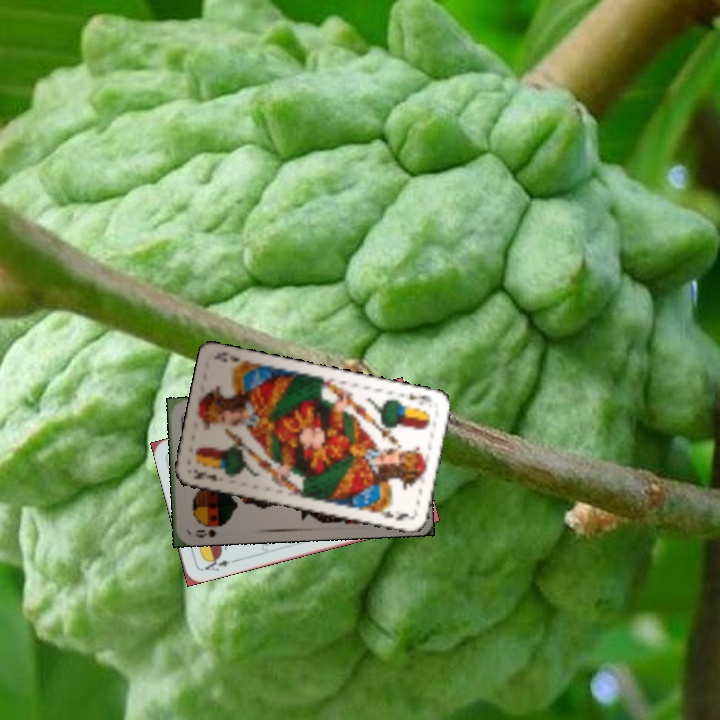EA: (200, 553, 238, 574)
EK: (189, 465, 220, 485), (405, 388, 435, 408)
SO: (191, 525, 218, 540)
